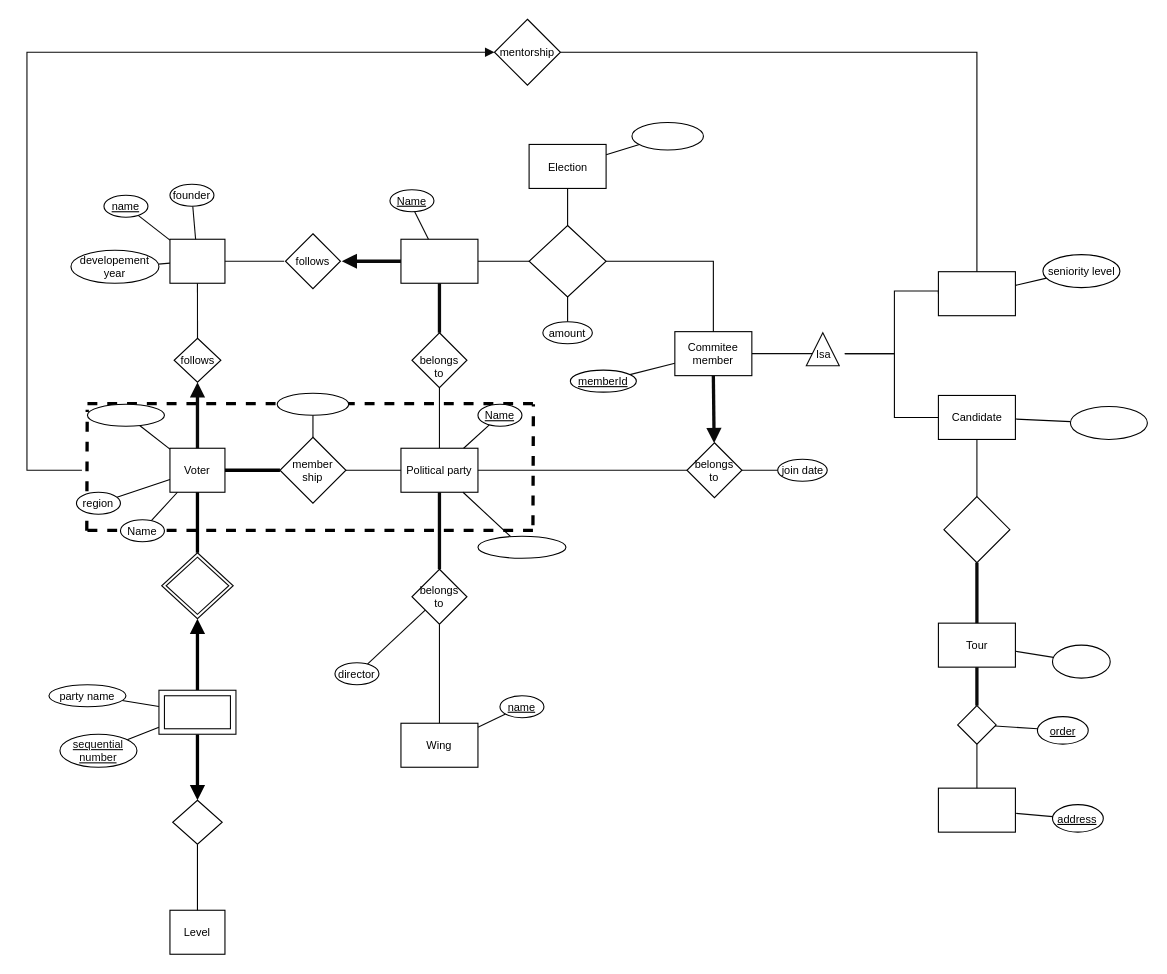
The diagram is 1167 pixels wide and 974 high, and some of its shapes have lost their labels. Here are the shapes that lost their labels. From the top down, the centre of each, then its label:
At point (667, 135): "electionId".
At point (197, 260): "Ideology".
At point (439, 260): "Coalition".
At point (567, 260): "compensation".
At point (976, 293): "Officer".
At point (125, 414): "fiscal code".
At point (312, 403): "apply date".
At point (1108, 422): "elections participated".
At point (521, 546): "foundation year".
At point (976, 529): "participates in".
At point (197, 585): "possesses".
At point (1080, 661): "starting date".
At point (197, 711): "Party card".
At point (976, 724): "is in".
At point (197, 821): "is of".
At point (976, 809): "Location".
